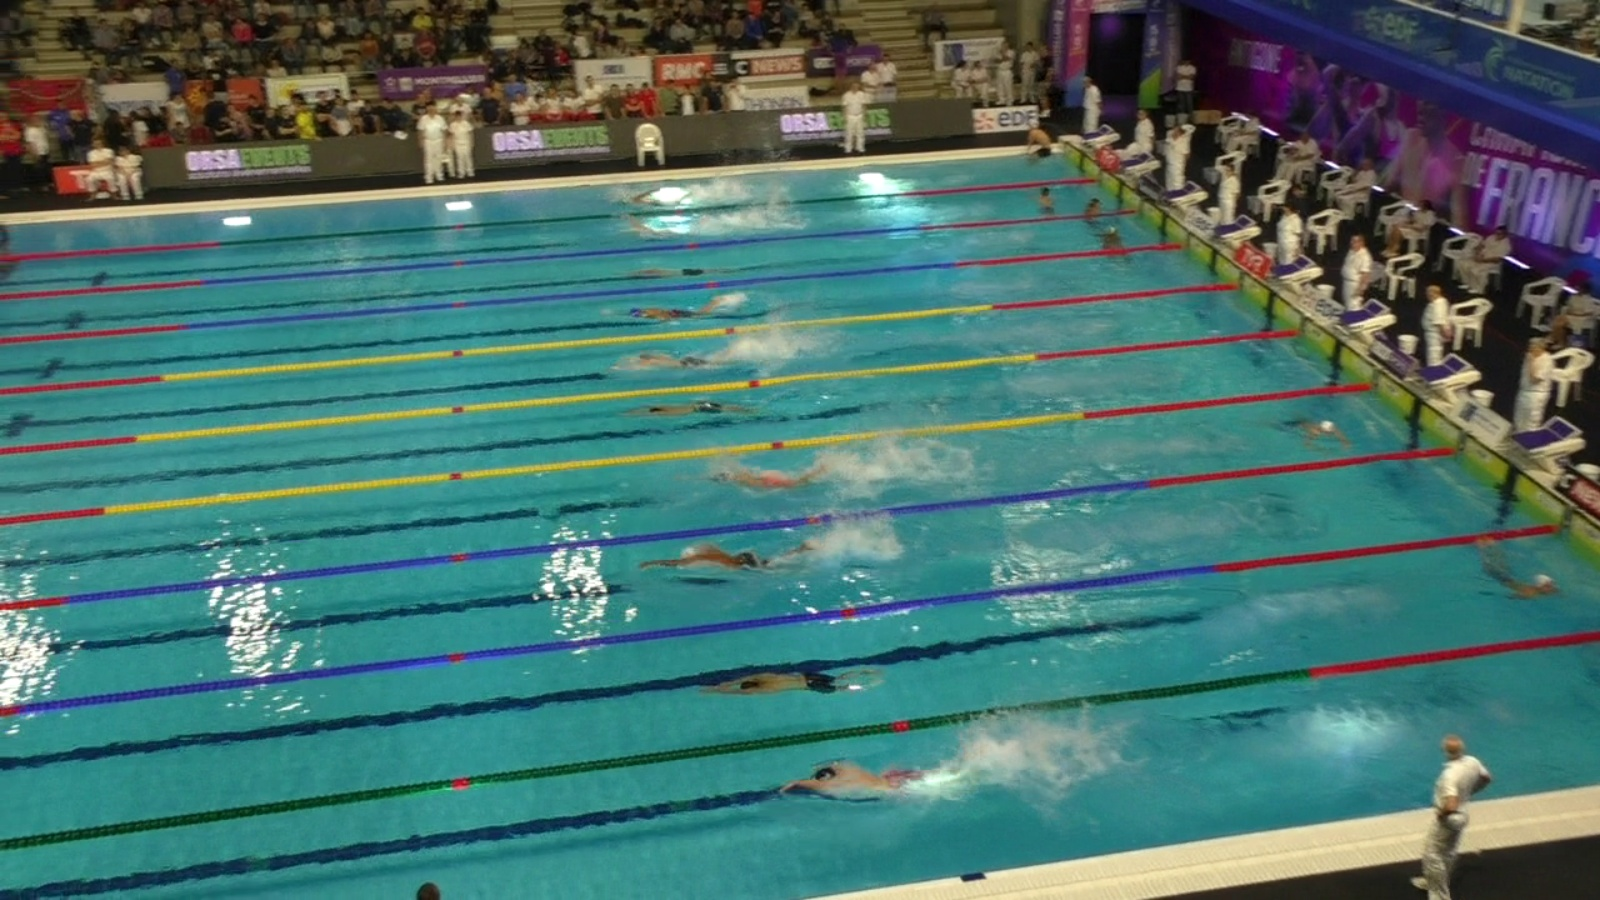swimmerwdd: (786, 756, 995, 803), (647, 538, 834, 585), (707, 665, 898, 697), (701, 463, 853, 492), (615, 348, 754, 375), (618, 401, 771, 424), (629, 297, 729, 321), (626, 214, 714, 238), (618, 265, 737, 281), (618, 188, 701, 205)
